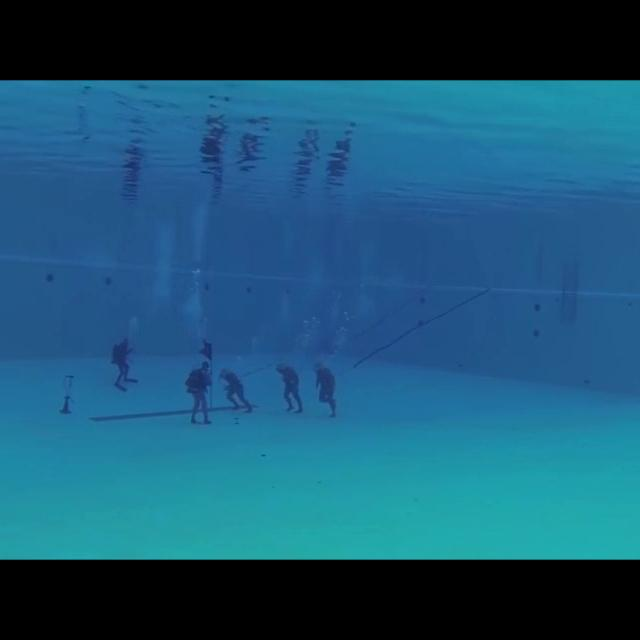human: (179, 353, 217, 429), (307, 356, 345, 423), (108, 331, 142, 400), (216, 364, 258, 419), (272, 359, 309, 420)
